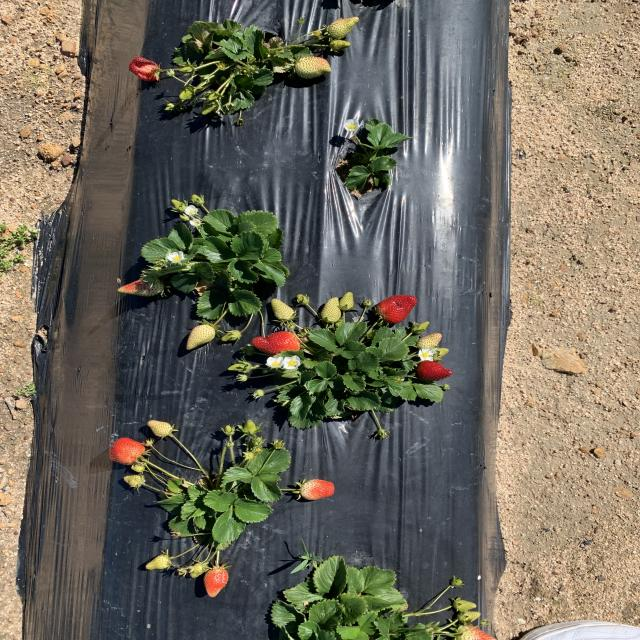unripe: (247, 330, 310, 359), (372, 292, 418, 323), (106, 438, 146, 466), (417, 359, 458, 384), (297, 479, 337, 502), (201, 568, 229, 598), (130, 57, 162, 81)
